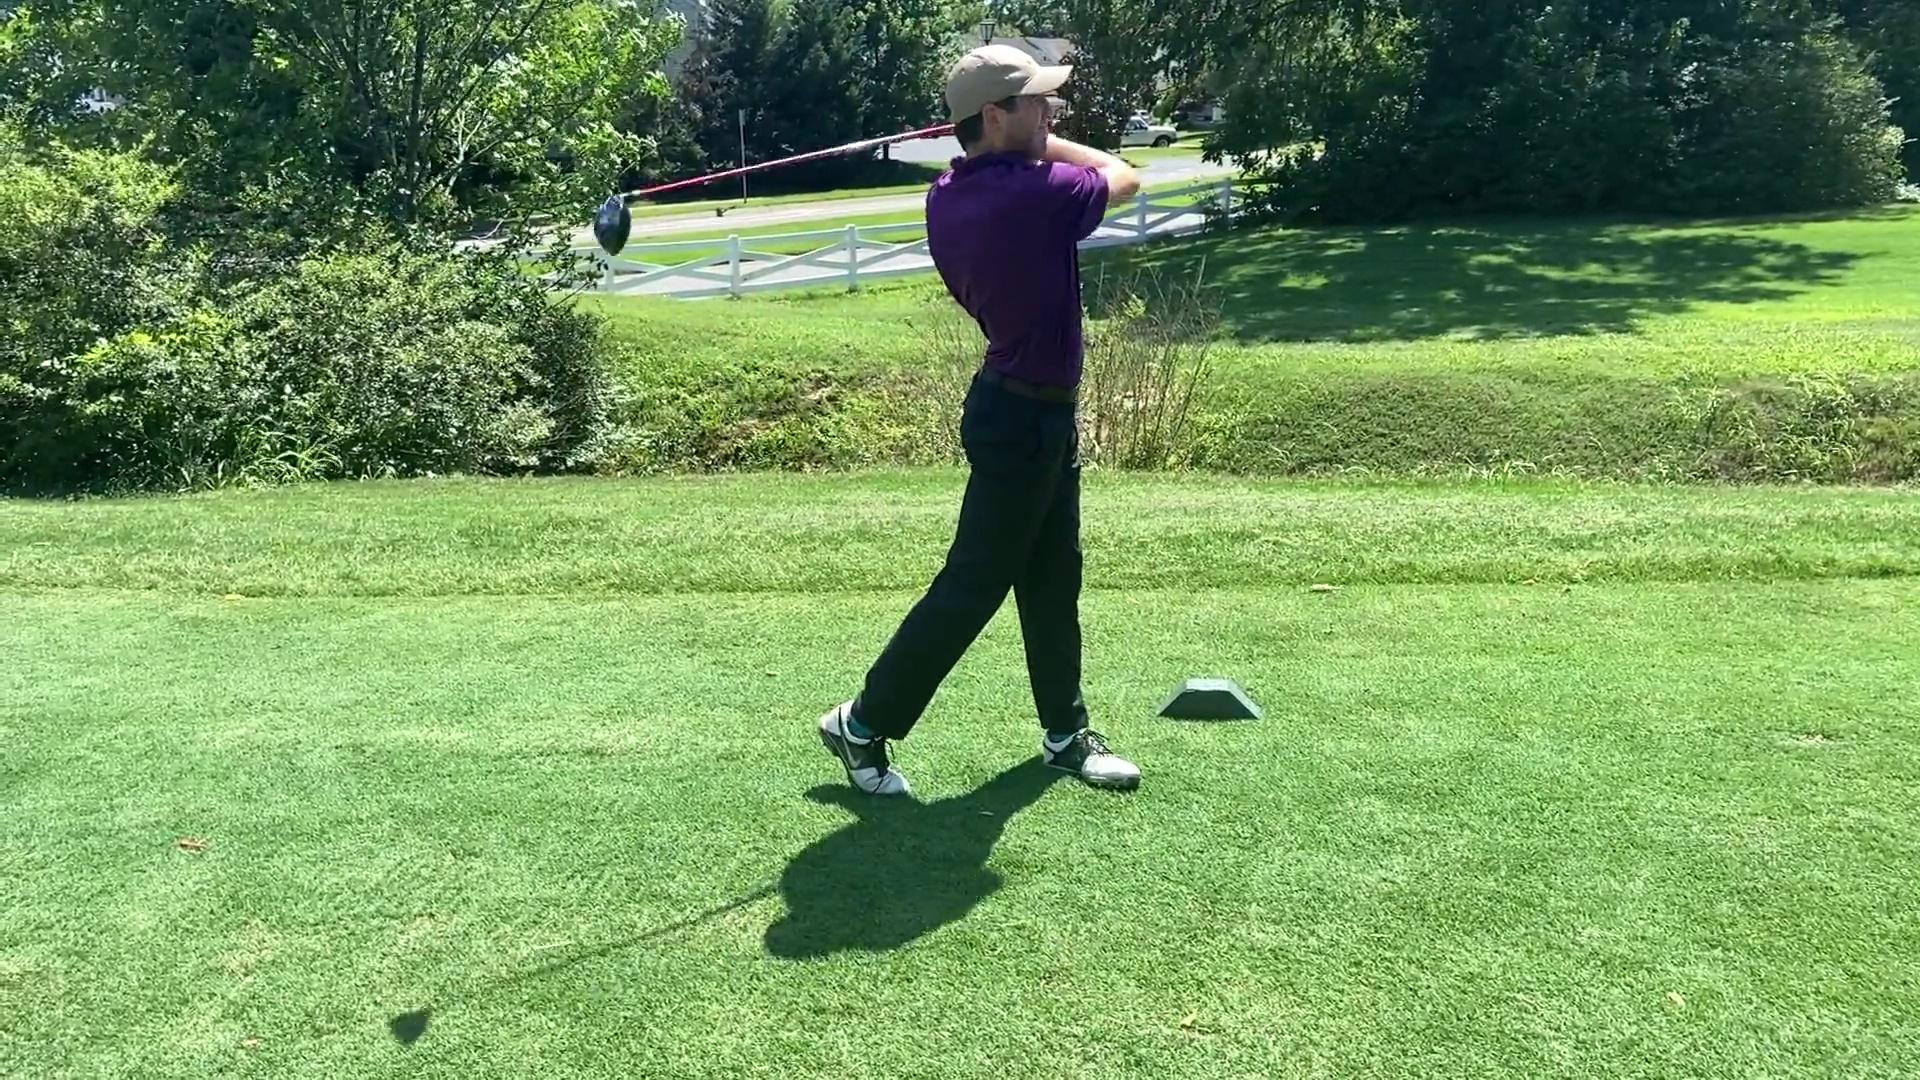ClubHead: (593, 185, 638, 261)
